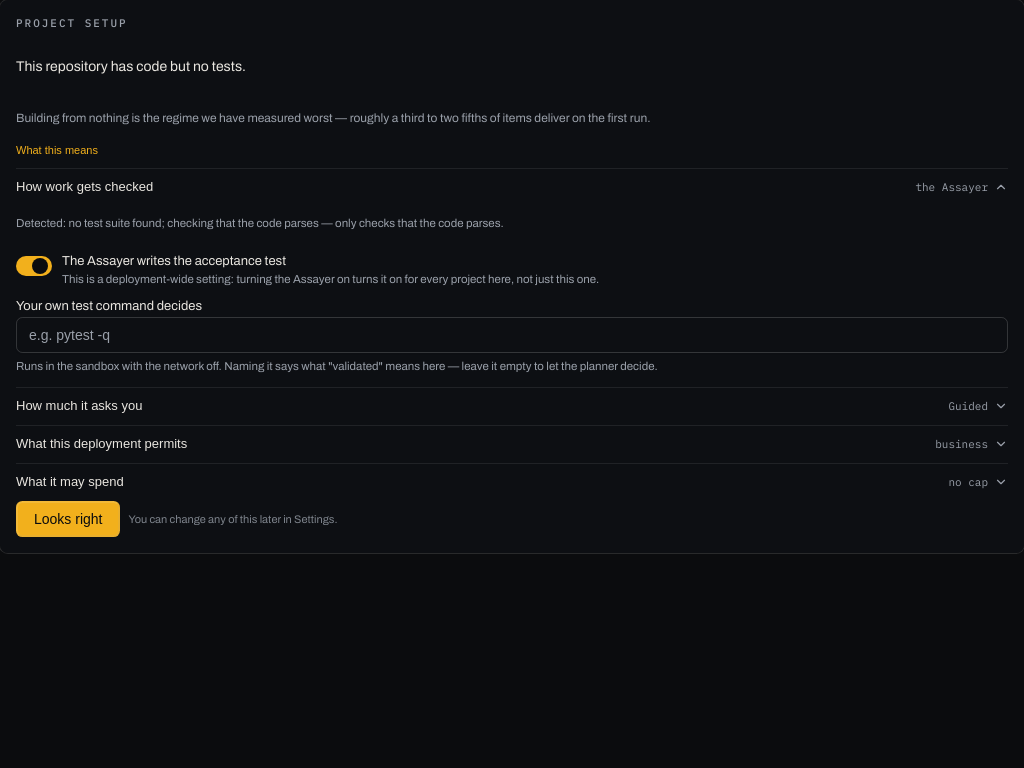
Test: it states what was measured, and what that means › explains the park mechanic in operator language, on demand
The width and height of the screenshot is (1024, 768).
Click the button "What this means": (57, 150) [16,144,98,156]
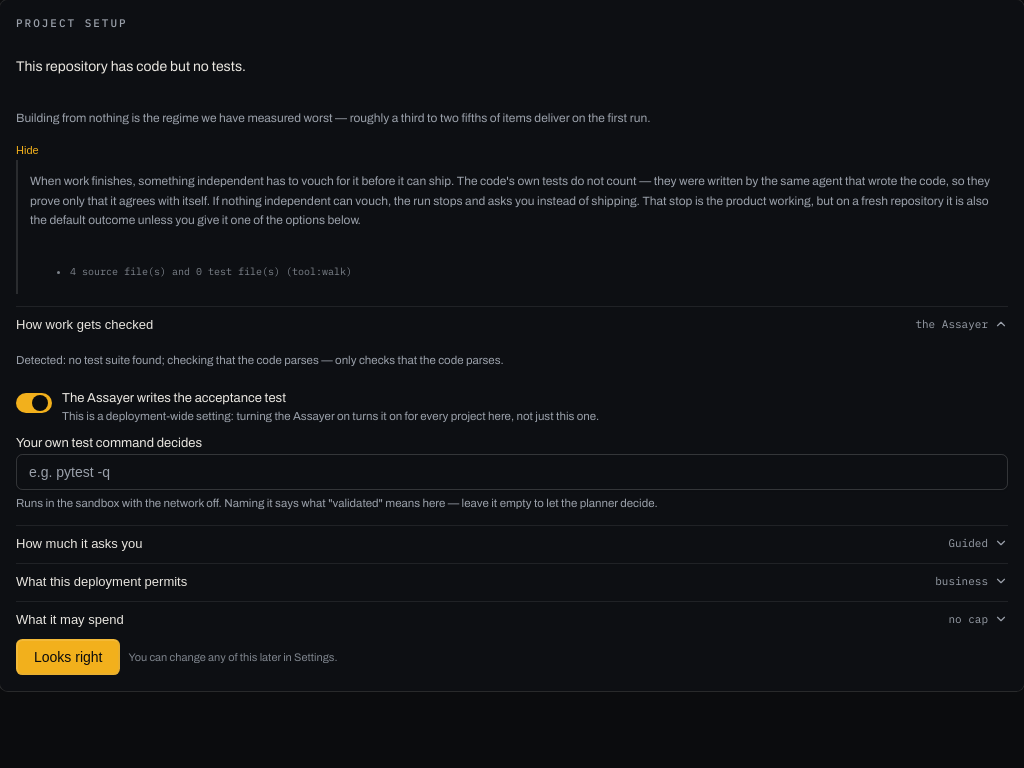
expect the text "prove only that it agrees with itself" is shown: met, box [30,174,990,227]
expect the list item "4 source file(s) and 0 test file(s) (tool:walk)" is shown: met, box [70,265,352,278]
